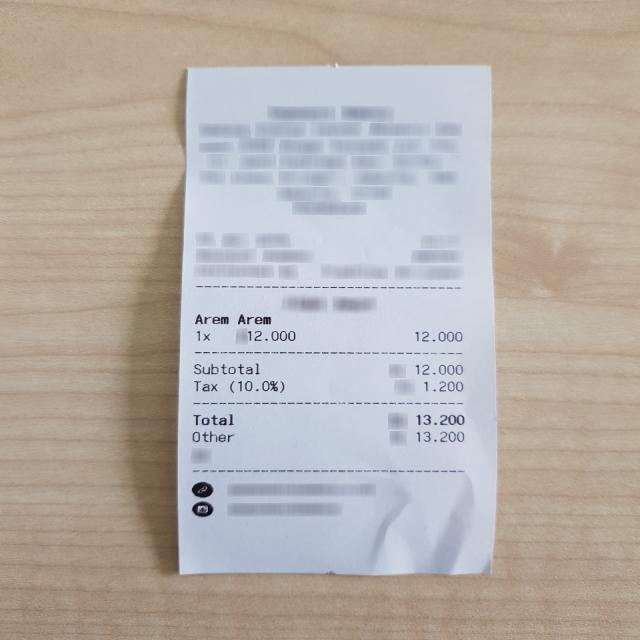kertas: (177, 66, 497, 575)
